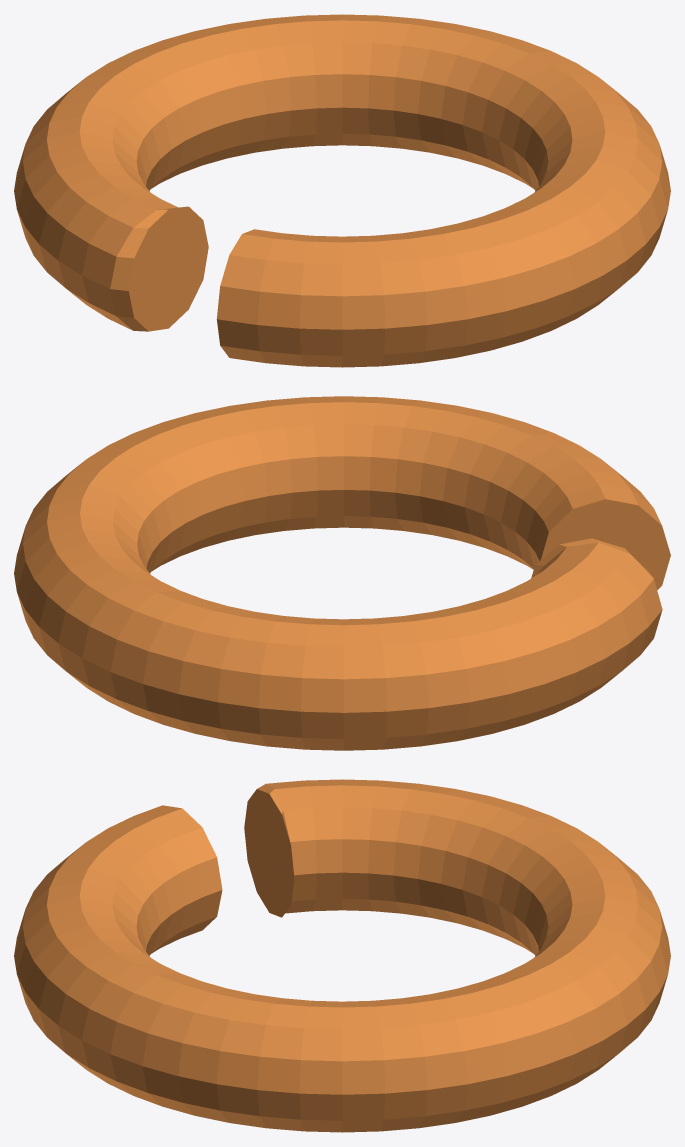
3 renders of one model, top to bottom at view 1: azimuth 30°, elevation 25°; view 2: azimuth 150°, elevation 25°; view 3: azimuth 270°, elevation 25°, orthographic.
Parts seen in each view (by area): view 1: Torus; view 2: Torus; view 3: Torus.
Part boxes in pixels (left/top/right/bottom): Torus: left=14, top=14, right=670, bottom=367; Torus: left=14, top=396, right=670, bottom=750; Torus: left=14, top=779, right=670, bottom=1132.
Size of the model in its own units: 1590 by 318 by 1590.
